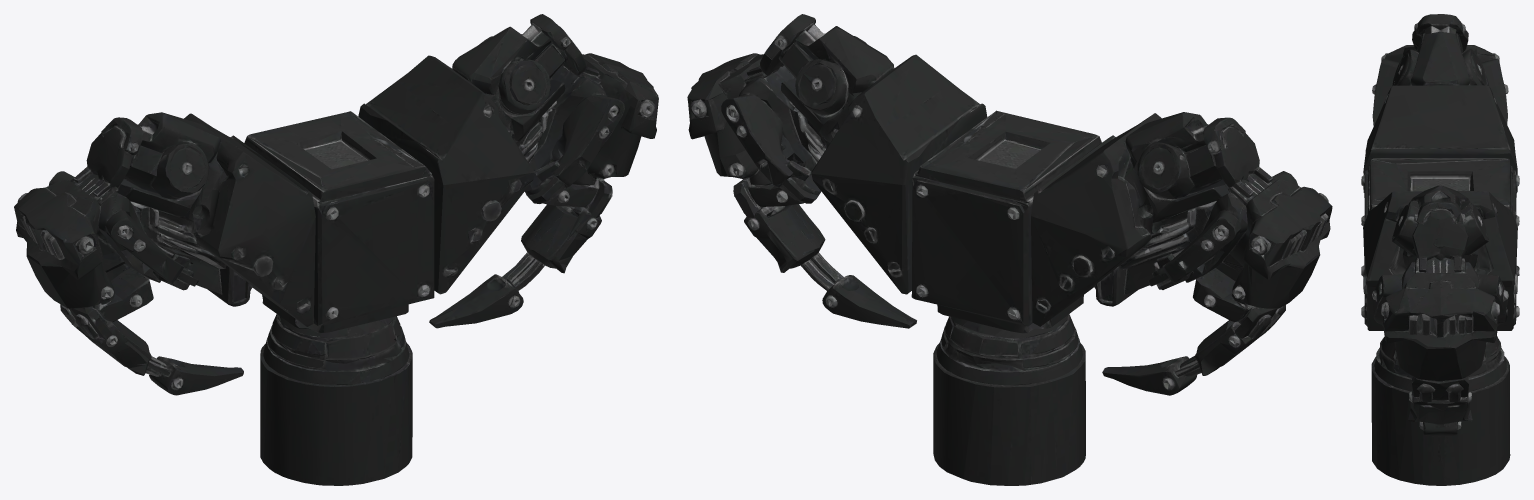
File: gripper.glb
3 views of the same model, side by side, from view 1: azimuth 30°, elevation 25°; view 2: azimuth 150°, elevation 25°; view 3: azimuth 270°, elevation 25° (orthographic). The views are drawn at different scales.
Bounding box in the file's own units: 1.9 × 1.14 × 0.469.
Materials: 1 (1 with a texture image).
